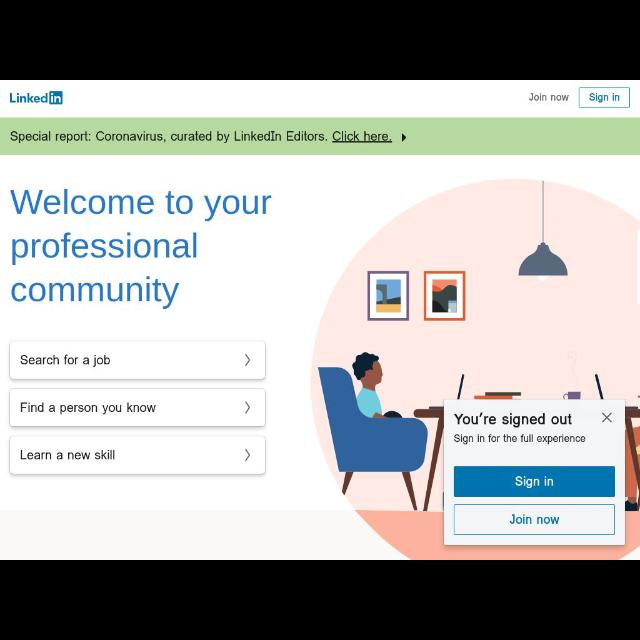backgroundimage: (311, 180, 639, 558)
icon: (598, 409, 614, 427), (242, 353, 252, 367), (242, 402, 252, 414), (243, 448, 250, 464), (400, 133, 408, 143)
iframe: (3, 116, 639, 154)
image: (6, 88, 66, 105)
panel: (443, 400, 624, 544)
spinner: (10, 340, 266, 380), (9, 436, 264, 476), (8, 388, 266, 426)
text: (8, 186, 276, 306), (8, 130, 324, 144), (18, 398, 160, 418), (453, 409, 573, 426), (20, 350, 110, 368), (453, 432, 587, 443), (20, 449, 116, 461), (331, 130, 394, 144), (528, 90, 570, 106), (512, 512, 560, 526), (515, 474, 553, 490), (590, 92, 620, 104)
textbutton: (454, 467, 614, 498), (454, 504, 616, 534), (579, 88, 631, 108)
